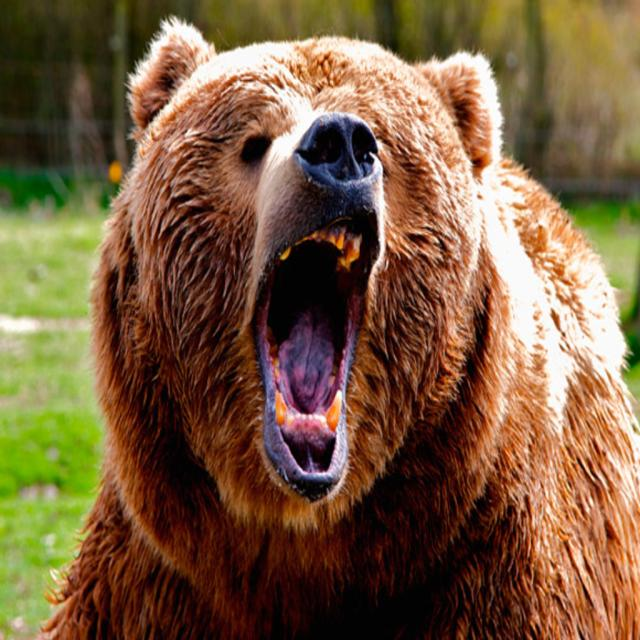Cheetahs: (39, 9, 639, 639)
